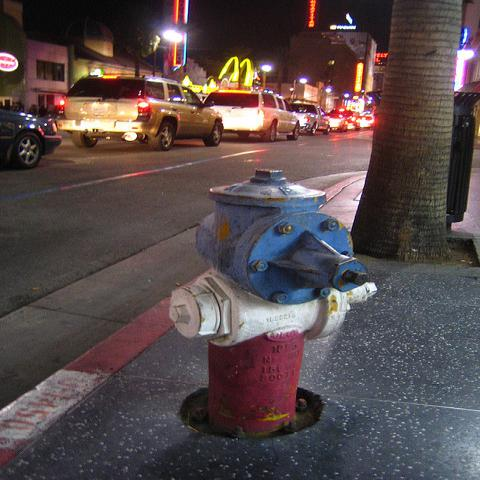car: (205, 89, 304, 140), (1, 107, 58, 172), (292, 103, 331, 135), (325, 107, 361, 133), (360, 111, 377, 131)
truck: (59, 75, 224, 151)
